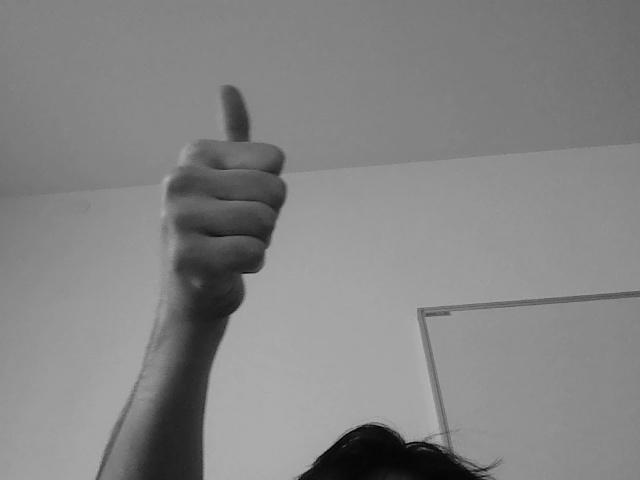good: (152, 70, 298, 327)
